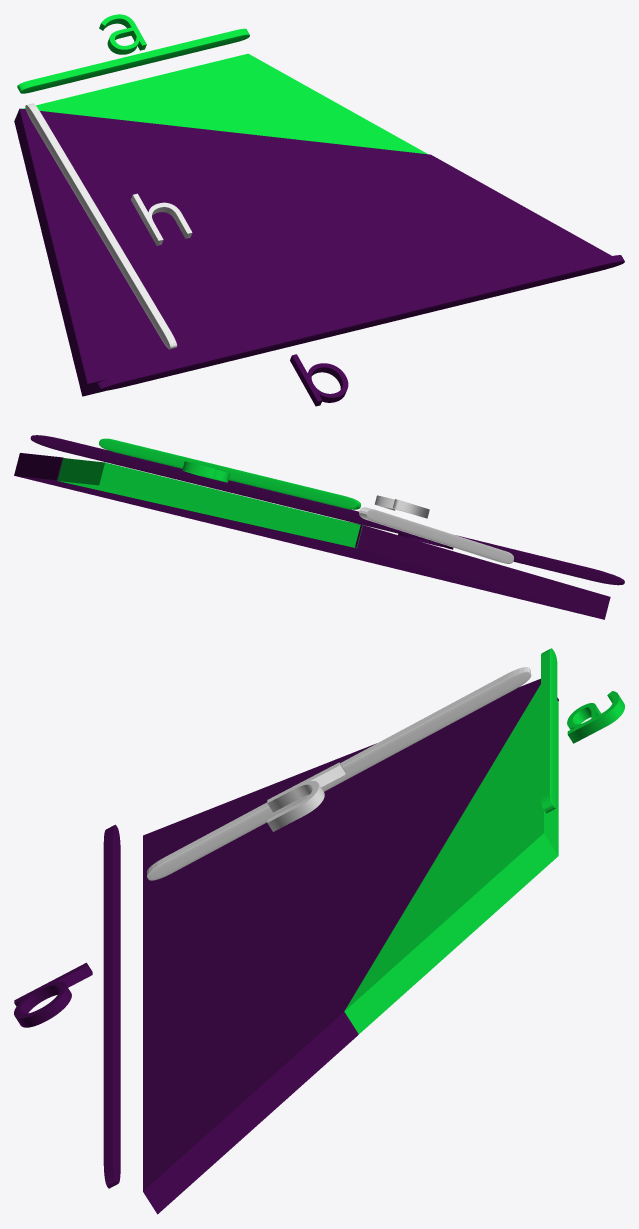
The model's file is trapezium_small_text.gltf.
The picture shows the model from 3 angles, top to bottom: view 1: azimuth 30°, elevation 25°; view 2: azimuth 150°, elevation 25°; view 3: azimuth 270°, elevation 25°; orthographic projection. The views are drawn at different scales.
Parts seen in each view (by area): view 1: Triangle, ExtraTr, Height, Text.001, Text.002, Text; view 2: Triangle, ExtraTr, Height, Text.002, Text; view 3: Triangle, ExtraTr, Height, Text.001, Text.002, Text.
Boxes of the visible parts, x1=… form: Triangle: x1=14, y1=108, x2=624, y2=396; ExtraTr: x1=14, y1=28, x2=427, y2=154; Height: x1=25, y1=103, x2=177, y2=349; Text.001: x1=290, y1=354, x2=348, y2=406; Text.002: x1=130, y1=193, x2=192, y2=245; Text: x1=99, y1=14, x2=146, y2=54; Triangle: x1=14, y1=435, x2=624, y2=619; ExtraTr: x1=57, y1=438, x2=362, y2=548; Height: x1=359, y1=507, x2=513, y2=563; Text.002: x1=374, y1=495, x2=429, y2=518; Text: x1=182, y1=461, x2=230, y2=482; Triangle: x1=103, y1=678, x2=558, y2=1214; ExtraTr: x1=344, y1=648, x2=558, y2=1034; Height: x1=147, y1=667, x2=531, y2=880; Text.001: x1=14, y1=962, x2=92, y2=1027; Text.002: x1=267, y1=762, x2=345, y2=831; Text: x1=567, y1=691, x2=624, y2=743.
Bounding box in the file's own units: 0.3594 × 0.1511 × 0.2606.
